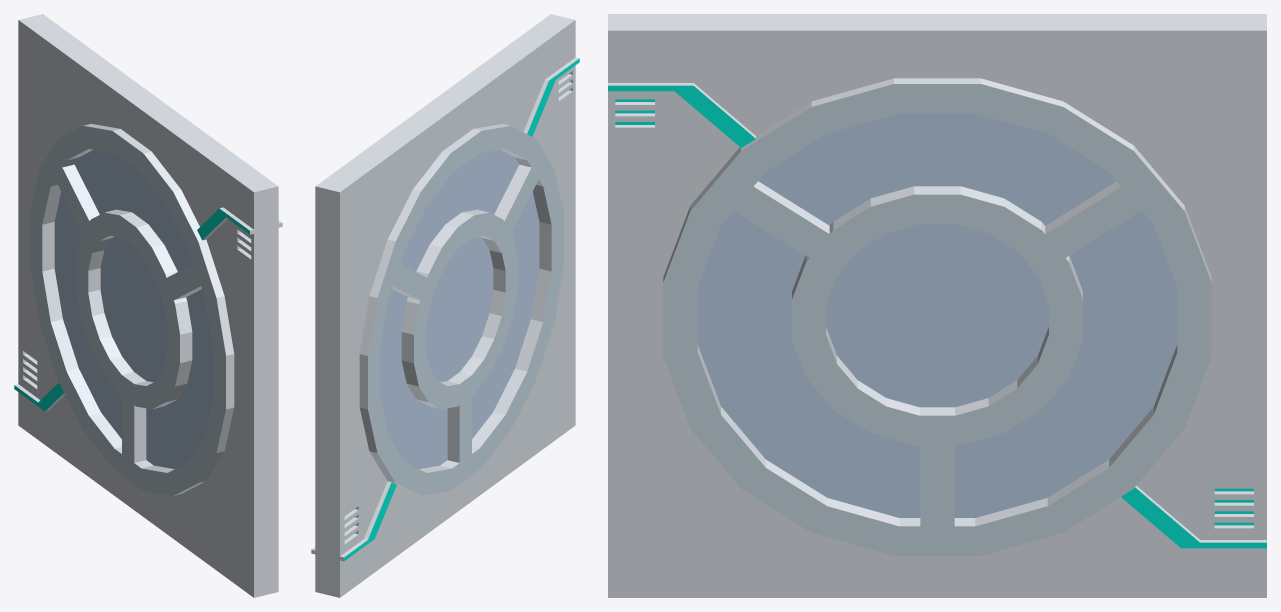
File: window-02.fbx
3 renders of one model, left to right at view 1: azimuth 30°, elevation 25°; view 2: azimuth 150°, elevation 25°; view 3: azimuth 270°, elevation 25°, orthographic. The views are drawn at different scales.
Visible parts, largest first — view 1: window-02; view 2: window-02; view 3: window-02.
Part boxes in pixels (x1=…): window-02: x1=14, y1=14, x2=282, y2=597; window-02: x1=311, y1=14, x2=579, y2=597; window-02: x1=608, y1=14, x2=1266, y2=597.
Bounding box in the file's own units: 10 × 95 × 100.
